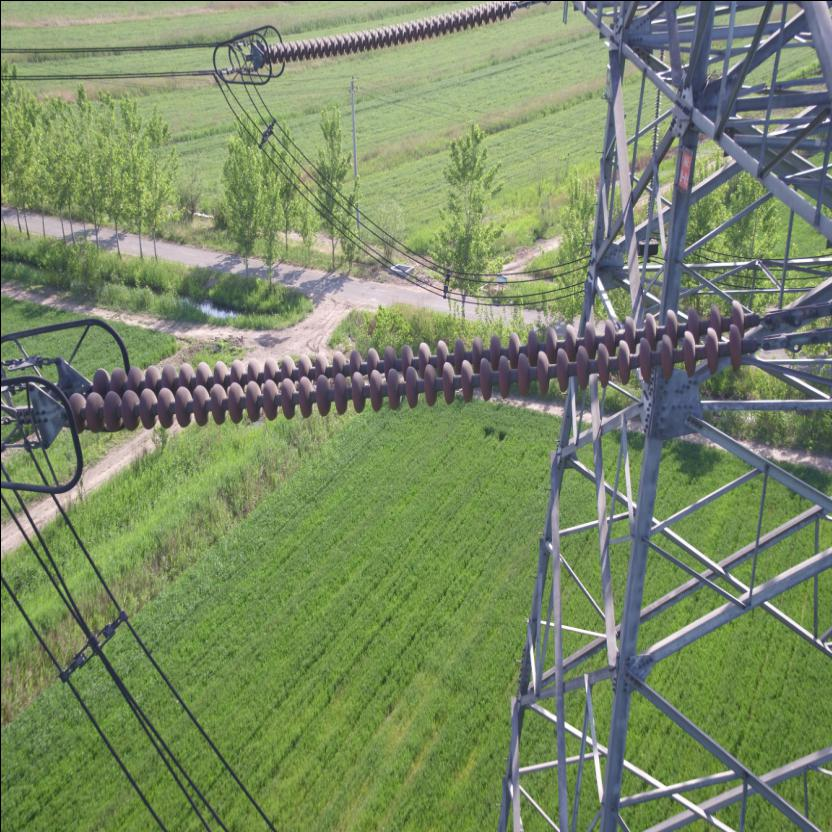insulator: (54, 294, 802, 436), (256, 0, 536, 62)
